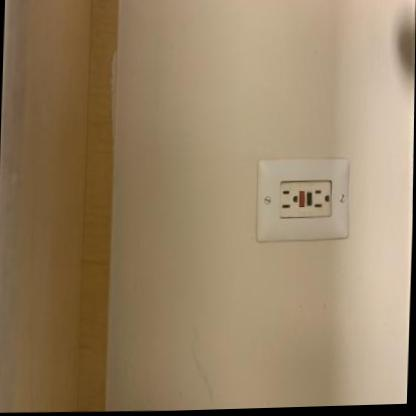OUTLET: (253, 154, 351, 245)
